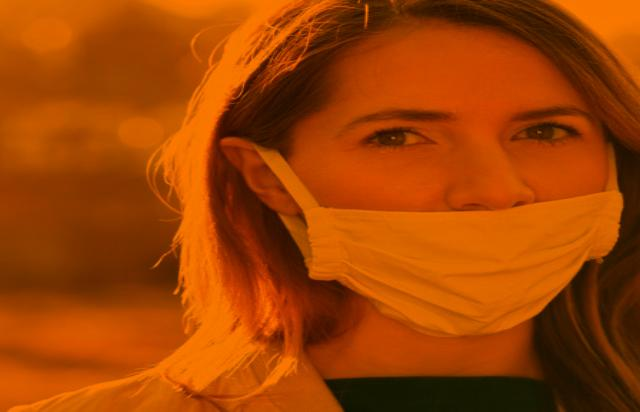mask_weared_incorrect: (179, 1, 625, 341)
